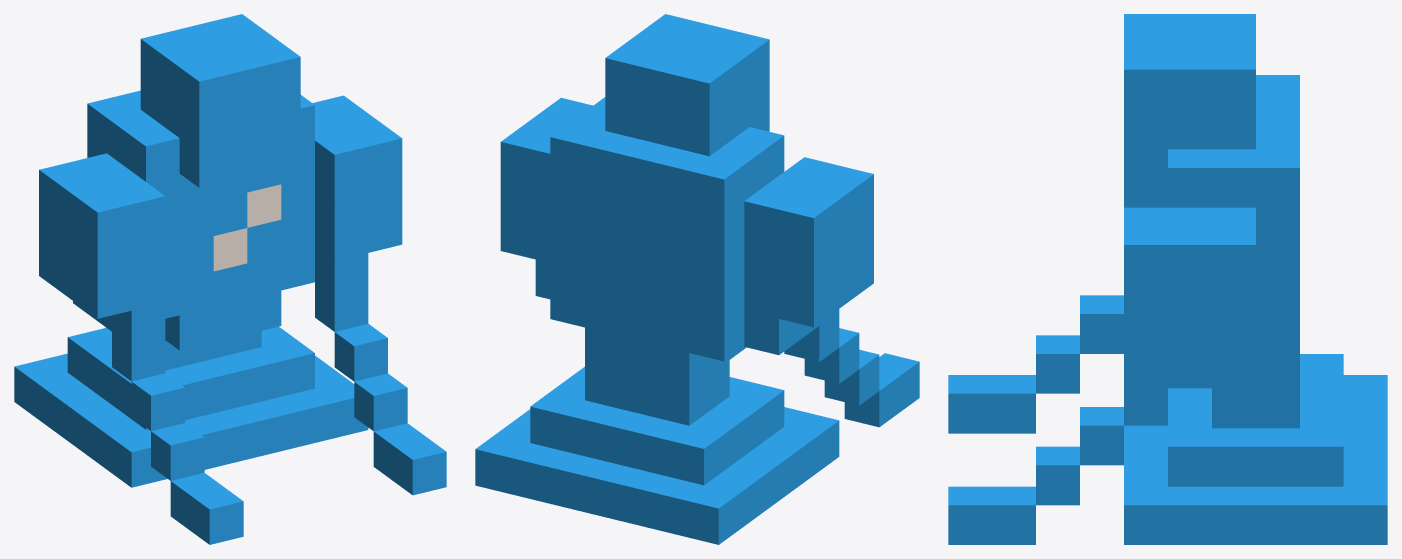
The model's file is slob_b_action_1.obj.
3 views of the same model, side by side, from view 1: azimuth 30°, elevation 25°; view 2: azimuth 150°, elevation 25°; view 3: azimuth 270°, elevation 25° (orthographic). The views are drawn at different scales.
Size of the model in its own units: 0.9 by 1.1 by 1.
Materials: 1 (1 with a texture image).
